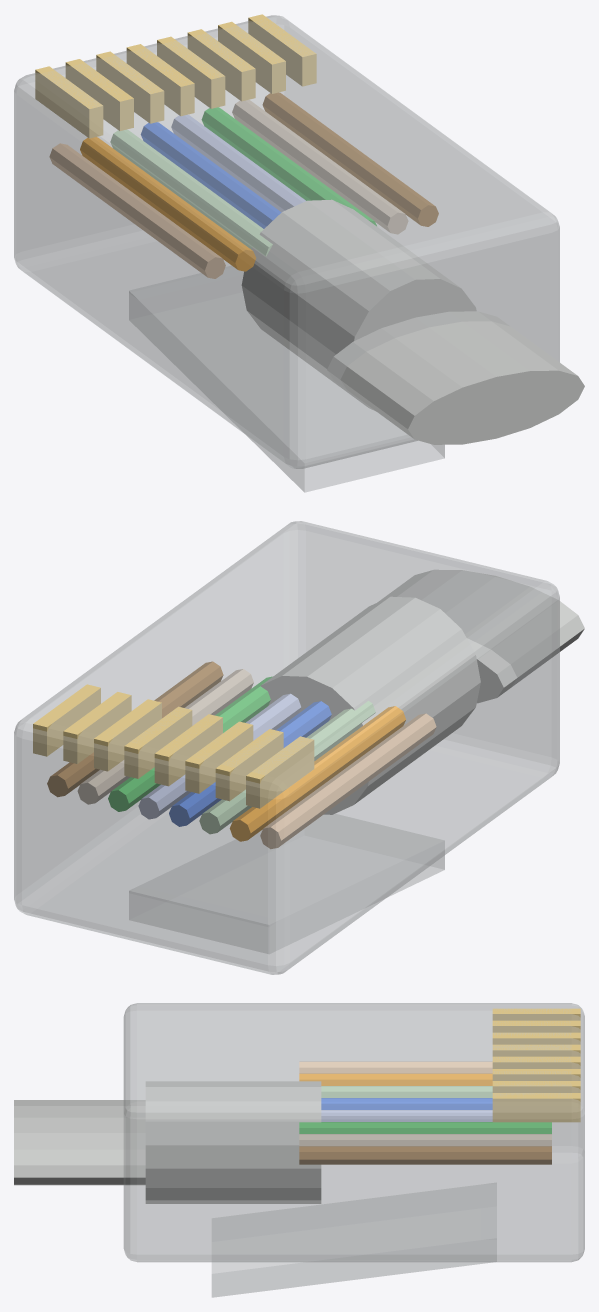
File: cable_rj45_plug_crushed.glb
3 views of the same model, one above another, from view 1: azimuth 30°, elevation 25°; view 2: azimuth 150°, elevation 25°; view 3: azimuth 270°, elevation 25° (orthographic). The views are drawn at different scales.
Visible parts, largest first — view 1: plug_body, variant_crushed_mesh, latch; view 2: plug_body, variant_crushed_mesh, latch; view 3: plug_body, variant_crushed_mesh, latch.
Part boxes in pixels (x1,y1,x2,y2): plug_body: [14, 14, 559, 468]; variant_crushed_mesh: [49, 92, 584, 444]; latch: [129, 266, 444, 492]; plug_body: [14, 521, 559, 974]; variant_crushed_mesh: [47, 570, 584, 848]; latch: [129, 814, 444, 953]; plug_body: [123, 1003, 584, 1262]; variant_crushed_mesh: [14, 1061, 551, 1203]; latch: [211, 1182, 496, 1297].
Size of the model in its own units: 0.0117 by 0.0109 by 0.026.
